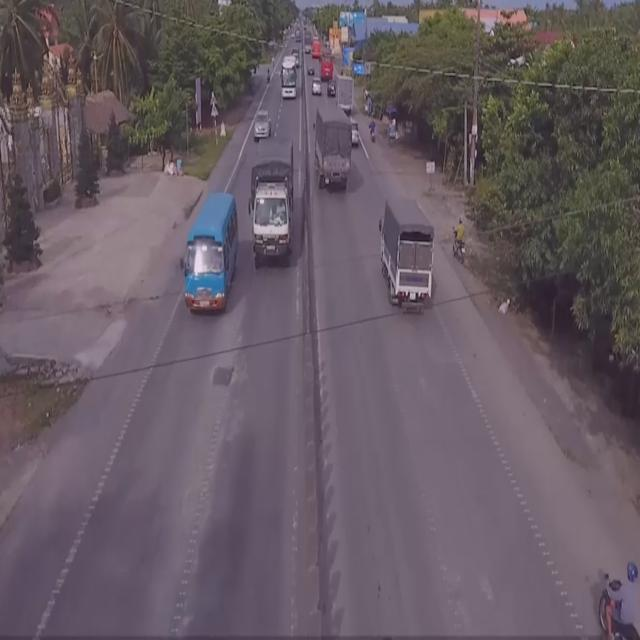bus: (180, 191, 240, 316), (278, 55, 298, 101)
car: (252, 104, 274, 143), (350, 120, 361, 150)
motorbike: (598, 561, 640, 640), (449, 216, 466, 270)
truck: (376, 193, 436, 313), (248, 133, 294, 274), (314, 108, 351, 201)
